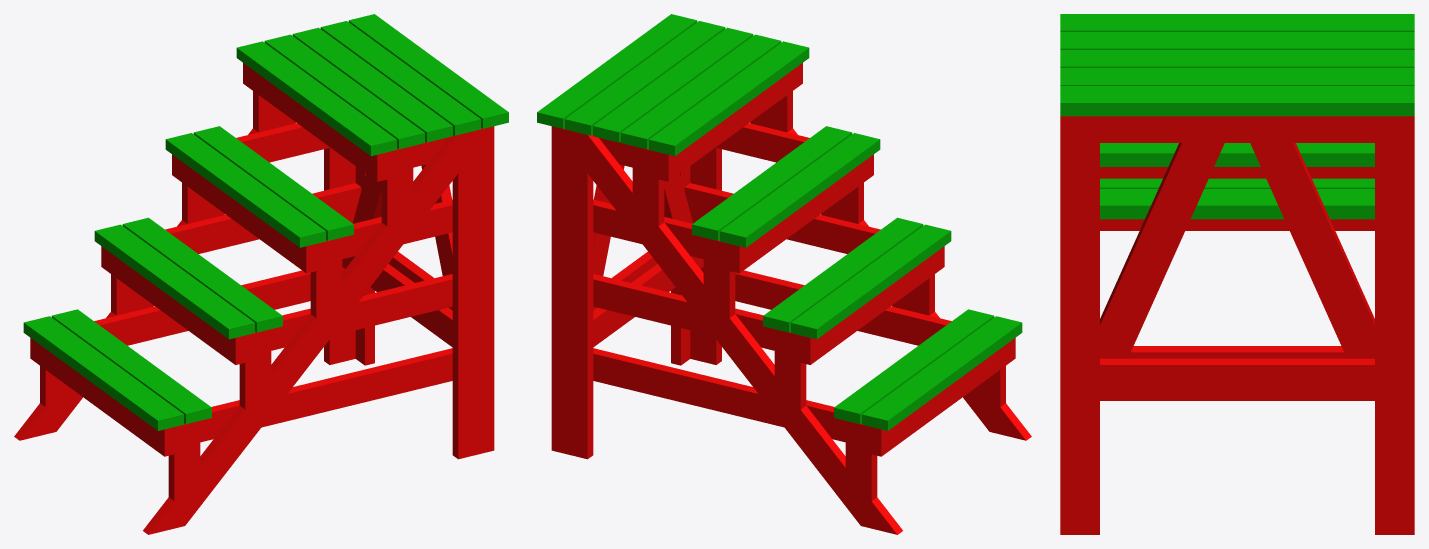
File: result.glb
The picture shows the model from 3 angles, left to right: view 1: azimuth 30°, elevation 25°; view 2: azimuth 150°, elevation 25°; view 3: azimuth 270°, elevation 25°; orthographic projection. The views are drawn at different scales.
Visible parts, largest first — view 1: 0781166b-1e9d-4b5f-a9e9-c14e8a75aa4d__undefined, 340bb7bf-0211-4444-bc5c-19d338645c7f__undefined, 303e650a-3453-4b13-9a63-deec19fddc0e__undefined, 88c69542-5478-4314-b6ee-a4dd1d498cfa__undefined, 69dd650e-2058-4161-9b09-3ebe9e6ad31e__undefined, bd411d76-5106-4998-b3cf-d45090f3a849__undefined, 12ca5e24-1afe-4e98-868c-ac12d3c551fc__undefined, dc876792-65c9-48b7-8a39-87d092957a3f__undefined, 9adc028c-eeb8-4d55-9a04-c492fea3251e__undefined, fde87163-71bd-4a57-aef7-0d6d8c9e17bb__undefined, 47a30496-4863-44e2-ac0e-d35988ef4634__undefined, 5fc1881f-c2c3-4ff7-8a09-a053229bbd6a__undefined (+27 smaller); view 2: 203f25d1-7cdd-45a0-aae5-cb3b3b6f124f__undefined, c5f81e03-5575-4f1b-9622-ee03baa237ed__undefined, a8e69a76-8b53-47d6-ac1e-8e7daf6ed4f6__undefined, 88c69542-5478-4314-b6ee-a4dd1d498cfa__undefined, 69dd650e-2058-4161-9b09-3ebe9e6ad31e__undefined, bd411d76-5106-4998-b3cf-d45090f3a849__undefined, 12ca5e24-1afe-4e98-868c-ac12d3c551fc__undefined, beaf79fc-b271-4fd5-8fd0-3cac1296ab23__undefined, 9adc028c-eeb8-4d55-9a04-c492fea3251e__undefined, fde87163-71bd-4a57-aef7-0d6d8c9e17bb__undefined, 47a30496-4863-44e2-ac0e-d35988ef4634__undefined, 5fc1881f-c2c3-4ff7-8a09-a053229bbd6a__undefined (+28 smaller); view 3: f713bbd2-86ff-4e8c-8622-48693fcbf879__undefined, aa438988-0911-4b45-9697-f4e06ebd52f7__undefined, db0b73f0-f261-4678-93e7-46e10a32d37b__undefined, 151931c7-1328-437f-97ca-f377fc0e7dc0__undefined, f6c3fa63-ce41-4355-9c37-765f4e0c377e__undefined (×2), b94bf1ea-8936-4ef5-afe8-ad3ff075fd51__undefined, 6c552b5e-dc63-4105-a38e-38a8e6b9a5f8__undefined, 69dd650e-2058-4161-9b09-3ebe9e6ad31e__undefined, fde87163-71bd-4a57-aef7-0d6d8c9e17bb__undefined, baabc990-d112-4305-b977-0996aa03b770__undefined, 47a30496-4863-44e2-ac0e-d35988ef4634__undefined, 9adc028c-eeb8-4d55-9a04-c492fea3251e__undefined (+5 smaller).
Boxes of the visible parts, <box> form: 0781166b-1e9d-4b5f-a9e9-c14e8a75aa4d__undefined: <box>143,134,458,534</box>; 340bb7bf-0211-4444-bc5c-19d338645c7f__undefined: <box>452,128,484,459</box>; 303e650a-3453-4b13-9a63-deec19fddc0e__undefined: <box>200,348,452,442</box>; 88c69542-5478-4314-b6ee-a4dd1d498cfa__undefined: <box>94,224,254,339</box>; 69dd650e-2058-4161-9b09-3ebe9e6ad31e__undefined: <box>236,41,396,156</box>; bd411d76-5106-4998-b3cf-d45090f3a849__undefined: <box>23,316,183,430</box>; 12ca5e24-1afe-4e98-868c-ac12d3c551fc__undefined: <box>165,133,325,247</box>; dc876792-65c9-48b7-8a39-87d092957a3f__undefined: <box>271,274,452,350</box>; 9adc028c-eeb8-4d55-9a04-c492fea3251e__undefined: <box>51,309,211,424</box>; fde87163-71bd-4a57-aef7-0d6d8c9e17bb__undefined: <box>264,34,424,149</box>; 47a30496-4863-44e2-ac0e-d35988ef4634__undefined: <box>320,21,480,135</box>; 5fc1881f-c2c3-4ff7-8a09-a053229bbd6a__undefined: <box>193,126,353,240</box>; 203f25d1-7cdd-45a0-aae5-cb3b3b6f124f__undefined: <box>587,134,902,534</box>; c5f81e03-5575-4f1b-9622-ee03baa237ed__undefined: <box>561,128,593,459</box>; a8e69a76-8b53-47d6-ac1e-8e7daf6ed4f6__undefined: <box>593,348,845,442</box>; 88c69542-5478-4314-b6ee-a4dd1d498cfa__undefined: <box>791,224,951,339</box>; 69dd650e-2058-4161-9b09-3ebe9e6ad31e__undefined: <box>649,41,809,156</box>; bd411d76-5106-4998-b3cf-d45090f3a849__undefined: <box>862,316,1022,430</box>; 12ca5e24-1afe-4e98-868c-ac12d3c551fc__undefined: <box>720,133,880,247</box>; beaf79fc-b271-4fd5-8fd0-3cac1296ab23__undefined: <box>593,274,774,350</box>; 9adc028c-eeb8-4d55-9a04-c492fea3251e__undefined: <box>834,309,994,424</box>; fde87163-71bd-4a57-aef7-0d6d8c9e17bb__undefined: <box>621,34,781,149</box>; 47a30496-4863-44e2-ac0e-d35988ef4634__undefined: <box>565,21,725,135</box>; 5fc1881f-c2c3-4ff7-8a09-a053229bbd6a__undefined: <box>692,126,852,240</box>; f713bbd2-86ff-4e8c-8622-48693fcbf879__undefined: <box>1060,143,1099,534</box>; aa438988-0911-4b45-9697-f4e06ebd52f7__undefined: <box>1375,143,1414,534</box>; db0b73f0-f261-4678-93e7-46e10a32d37b__undefined: <box>1100,358,1374,400</box>; 151931c7-1328-437f-97ca-f377fc0e7dc0__undefined: <box>1060,86,1414,116</box>; f6c3fa63-ce41-4355-9c37-765f4e0c377e__undefined (×2): <box>1100,143,1224,358</box>; b94bf1ea-8936-4ef5-afe8-ad3ff075fd51__undefined: <box>1250,143,1374,358</box>; 6c552b5e-dc63-4105-a38e-38a8e6b9a5f8__undefined: <box>1060,116,1414,142</box>; 69dd650e-2058-4161-9b09-3ebe9e6ad31e__undefined: <box>1060,14,1414,31</box>; fde87163-71bd-4a57-aef7-0d6d8c9e17bb__undefined: <box>1060,32,1414,49</box>; baabc990-d112-4305-b977-0996aa03b770__undefined: <box>1060,50,1414,67</box>; 47a30496-4863-44e2-ac0e-d35988ef4634__undefined: <box>1060,68,1414,85</box>; 9adc028c-eeb8-4d55-9a04-c492fea3251e__undefined: <box>1100,189,1374,219</box>.
Bounding box in the file's own units: 914 × 811 × 590.
